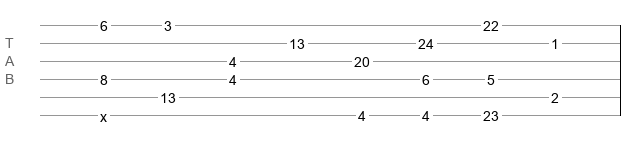1: (551, 36, 559, 46)
13: (160, 90, 176, 100), (289, 36, 305, 46)
2: (551, 90, 559, 100)
20: (354, 54, 370, 64)
22: (483, 18, 499, 28)
23: (483, 108, 499, 118)
24: (418, 36, 434, 46)
3: (164, 18, 172, 28)
4: (229, 72, 237, 82), (229, 54, 237, 64), (358, 108, 366, 118), (422, 108, 430, 118)
5: (487, 72, 495, 82)
6: (100, 18, 108, 28), (422, 72, 430, 82)
8: (100, 72, 108, 82)
x: (100, 109, 107, 117)
